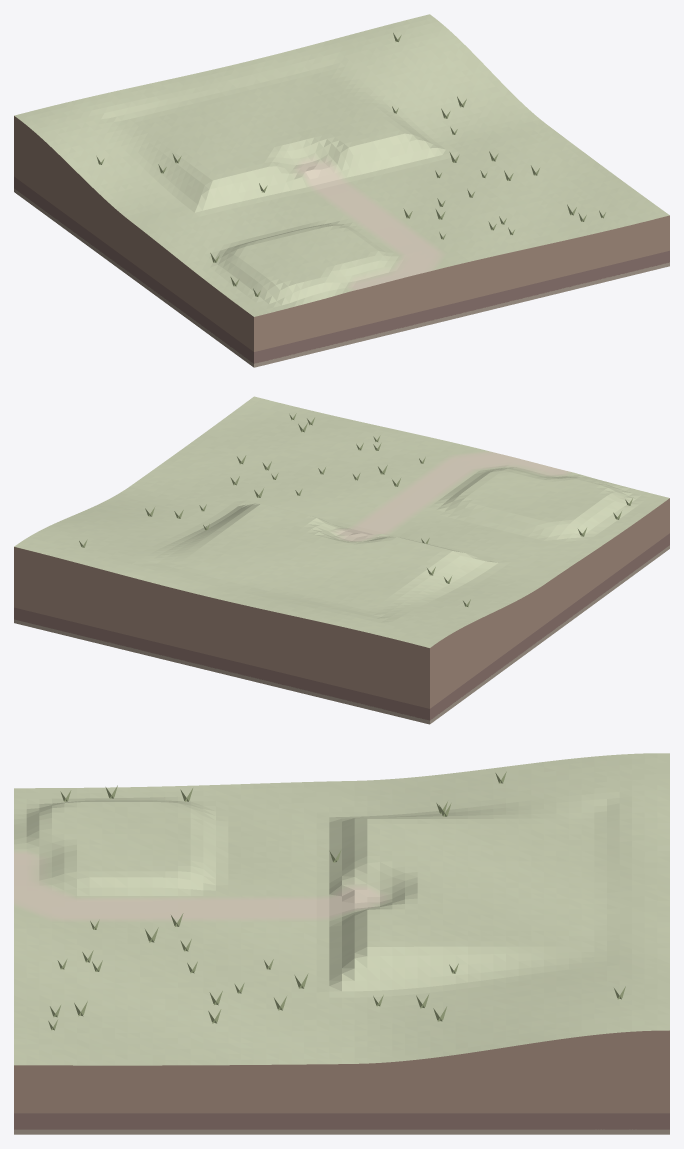
File: v_J315_proc.glb
The picture shows the model from 3 angles, top to bottom: view 1: azimuth 30°, elevation 25°; view 2: azimuth 150°, elevation 25°; view 3: azimuth 270°, elevation 25°; orthographic projection. The views are drawn at different scales.
Visible parts, largest first — view 1: proc_ground, proc_skirt, proc_grass; view 2: proc_ground, proc_skirt, proc_grass; view 3: proc_ground, proc_skirt, proc_grass.
Boxes of the visible parts, <box> form: proc_ground: <box>14,14,669,316</box>; proc_skirt: <box>14,116,669,367</box>; proc_grass: <box>96,33,605,296</box>; proc_ground: <box>14,396,669,647</box>; proc_skirt: <box>14,498,669,724</box>; proc_grass: <box>79,413,632,606</box>; proc_ground: <box>14,753,669,1065</box>; proc_skirt: <box>14,1030,669,1134</box>; proc_grass: <box>48,771,625,1030</box>.
Bounding box in the file's own units: 8 × 1.53 × 8.
